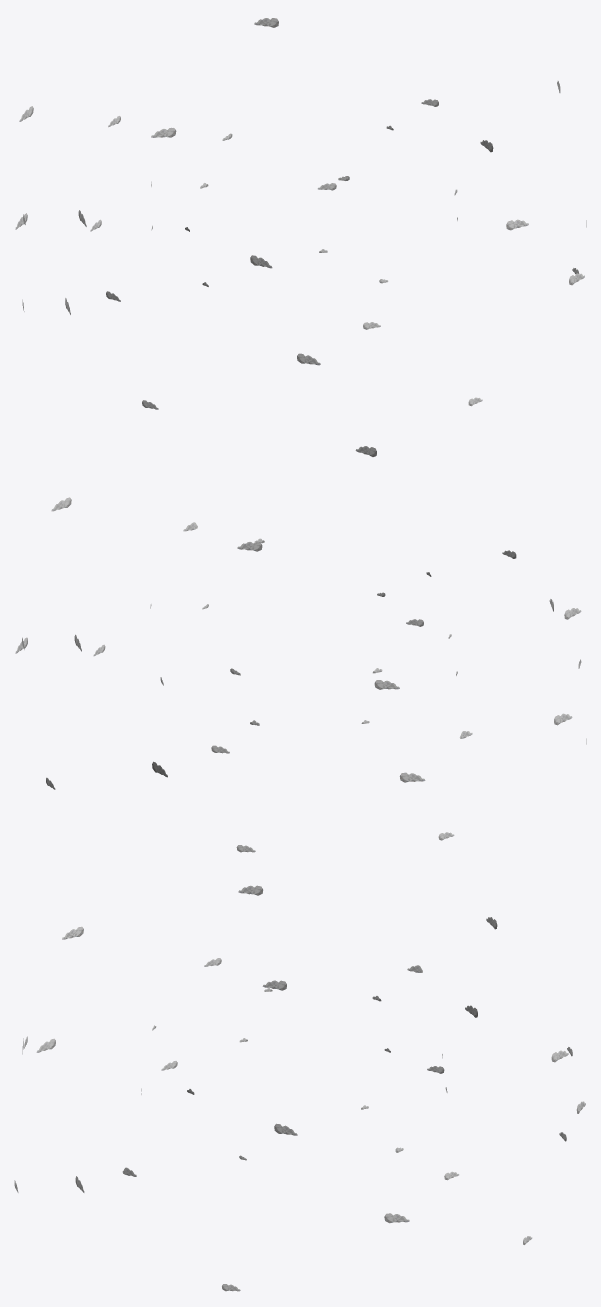
The model's file is nubes_animadas.fbx.
The picture shows the model from 3 angles, top to bottom: view 1: azimuth 30°, elevation 25°; view 2: azimuth 150°, elevation 25°; view 3: azimuth 270°, elevation 25°; orthographic projection.
Bounding box in the file's own units: 1215 × 401 × 1197.
Materials: 1 (1 with a texture image).
